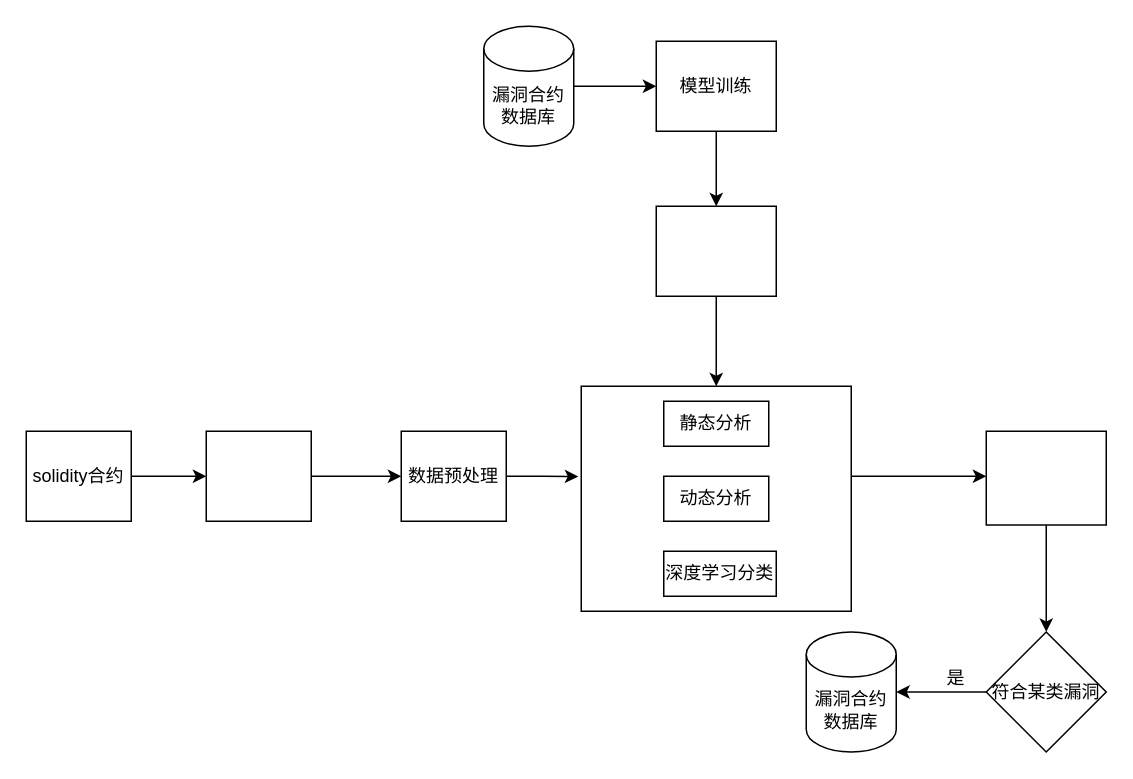
This 1133x779 diagram has some shape labels left out. The shapes that lost their labels are listed below. From the top down, each one's box as (x1, y1, x2, y2) in pixels, then its label:
(655, 205, 776, 296): 模型载入
(205, 430, 311, 521): 字节码
(985, 430, 1106, 525): 显示检测报告
